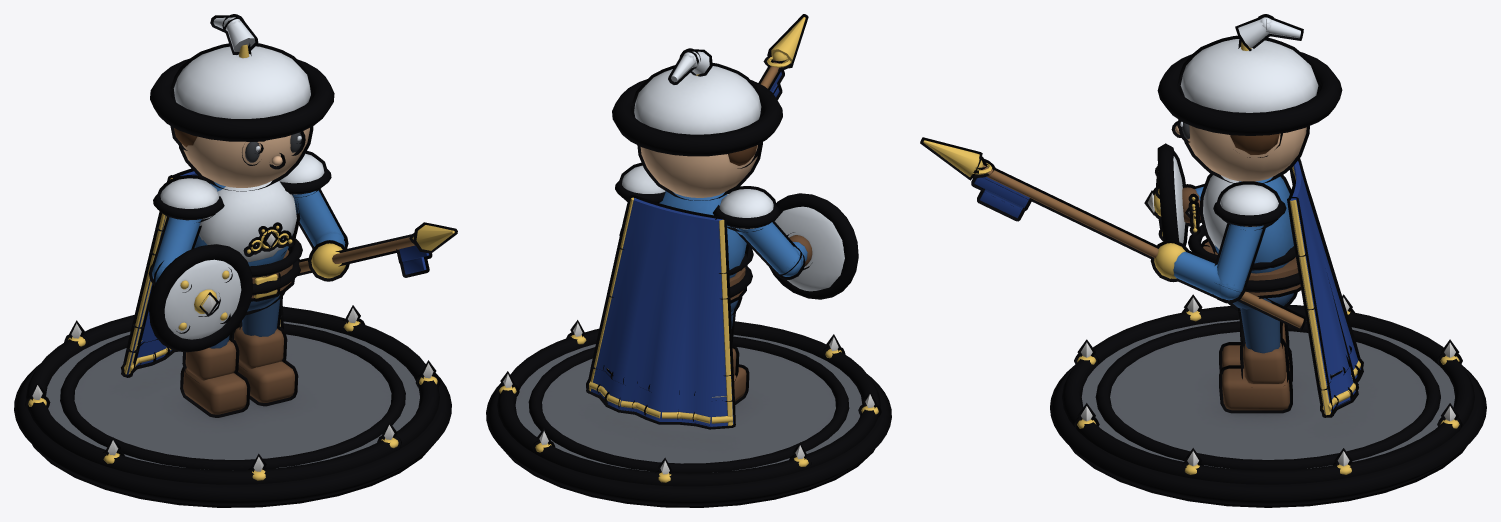
The model's file is lancer_s5.fbx.
3 views of the same model, side by side, from view 1: azimuth 30°, elevation 25°; view 2: azimuth 150°, elevation 25°; view 3: azimuth 270°, elevation 25° (orthographic). The views are drawn at different scales.
Visible parts, largest first — view 1: lancer_s5; view 2: lancer_s5; view 3: lancer_s5.
Part boxes in pixels (x1,y1,x2,y2): lancer_s5: (14, 14, 457, 507); lancer_s5: (486, 14, 891, 507); lancer_s5: (920, 14, 1486, 507).
Bounding box in the file's own units: 1.58 × 1.62 × 2.05.
Materials: 2 (1 with a texture image).
